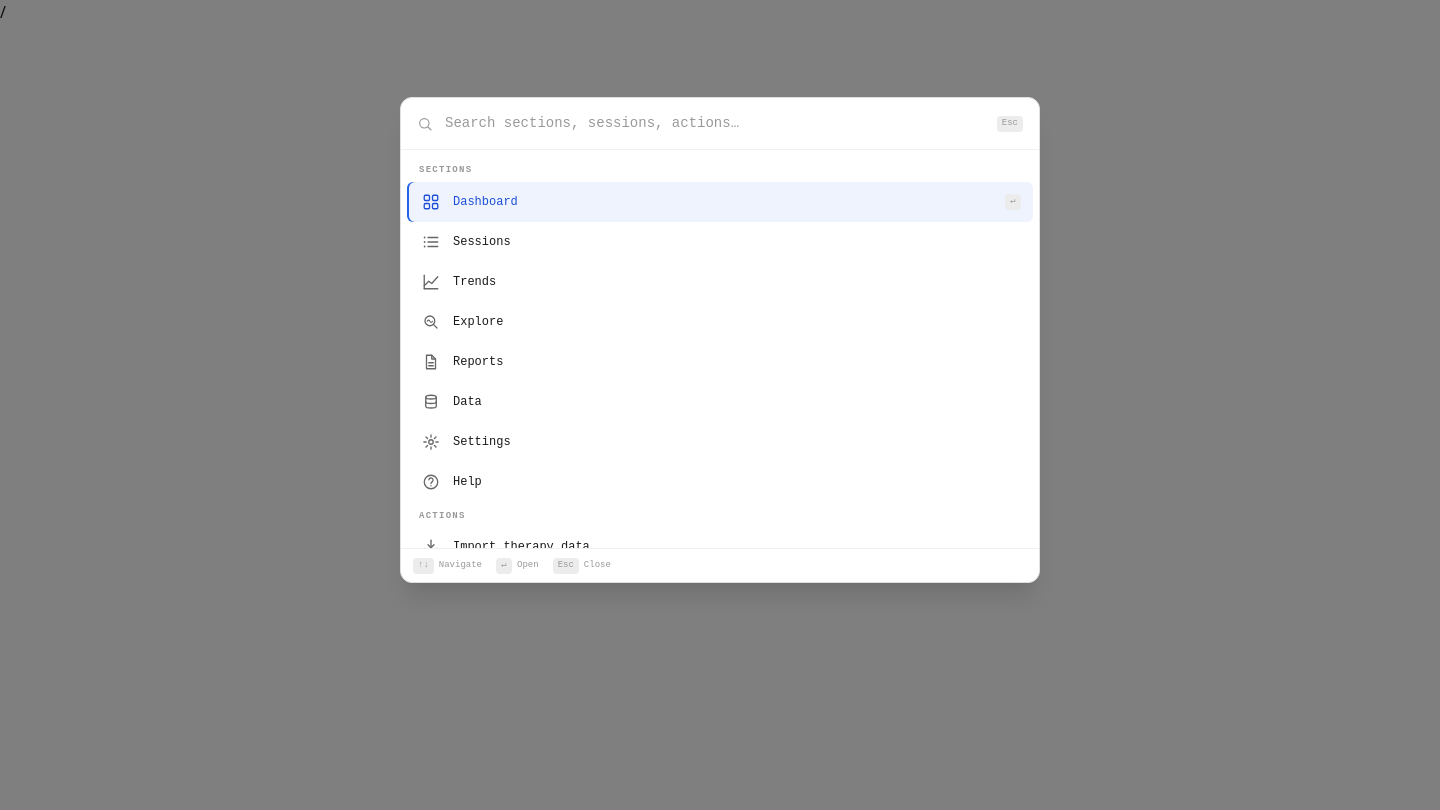
Scenario: CommandPalette › fuzzy filtering › narrows options to those matching the query
Expected: the option "Dashboard ↵" is shown, [407,182,1033,222]
Type "trends" into the dropdown at point(715, 124), box [443,112,987,135]
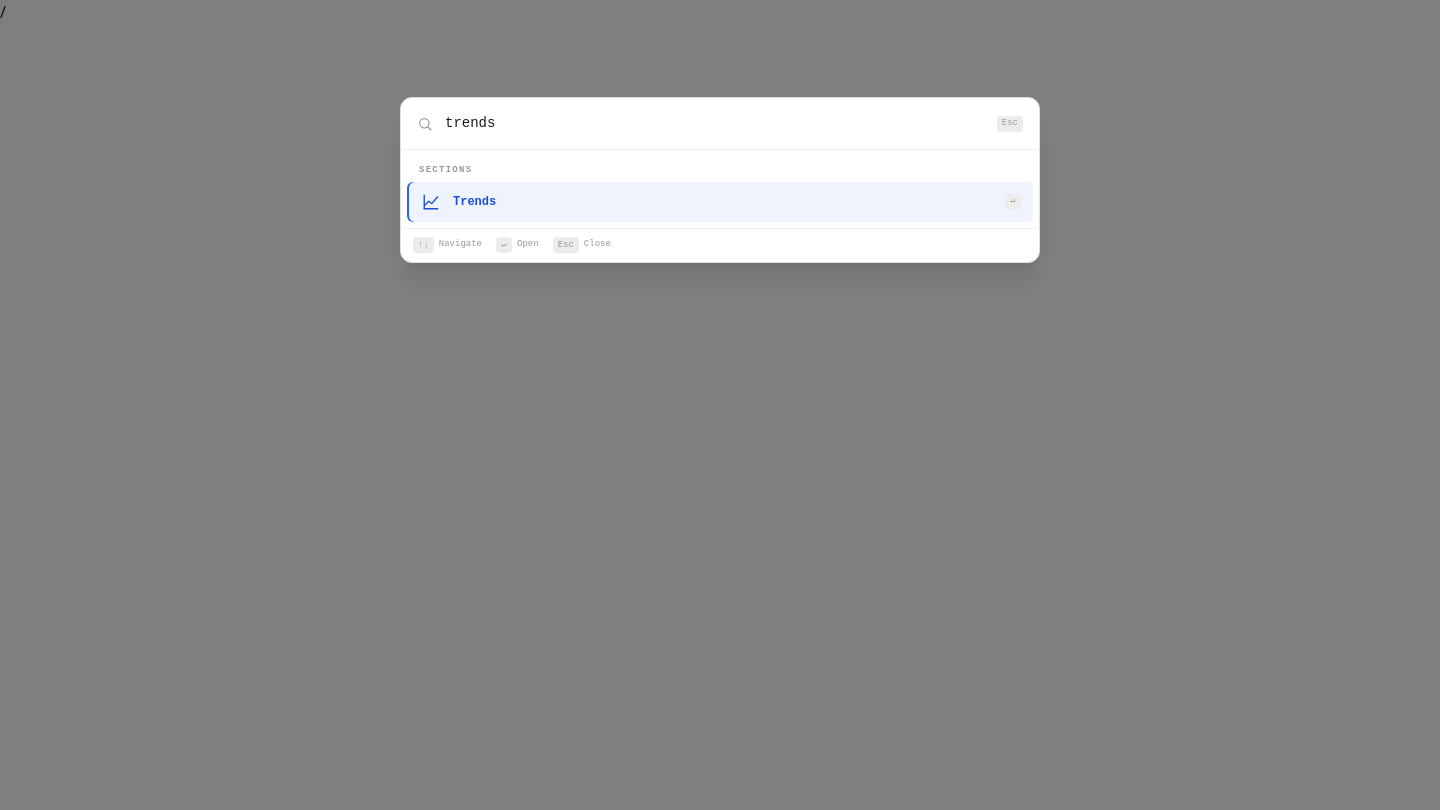
Expected: the option "Trends ↵" is shown, [407,182,1033,222]
Expected: the option "Dashboard" is gone
